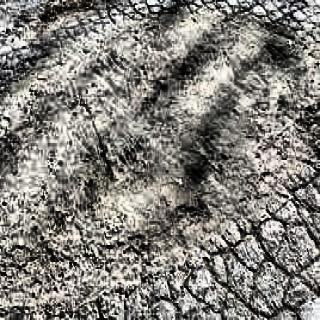alligator-crack: (90, 153, 320, 320), (39, 0, 320, 45)
